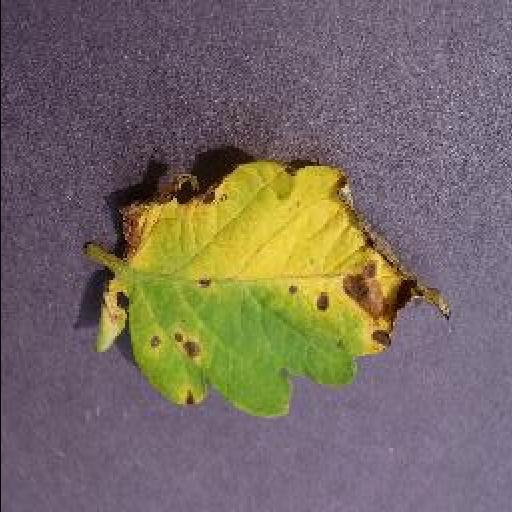disease_tomato: (94, 152, 450, 422)
